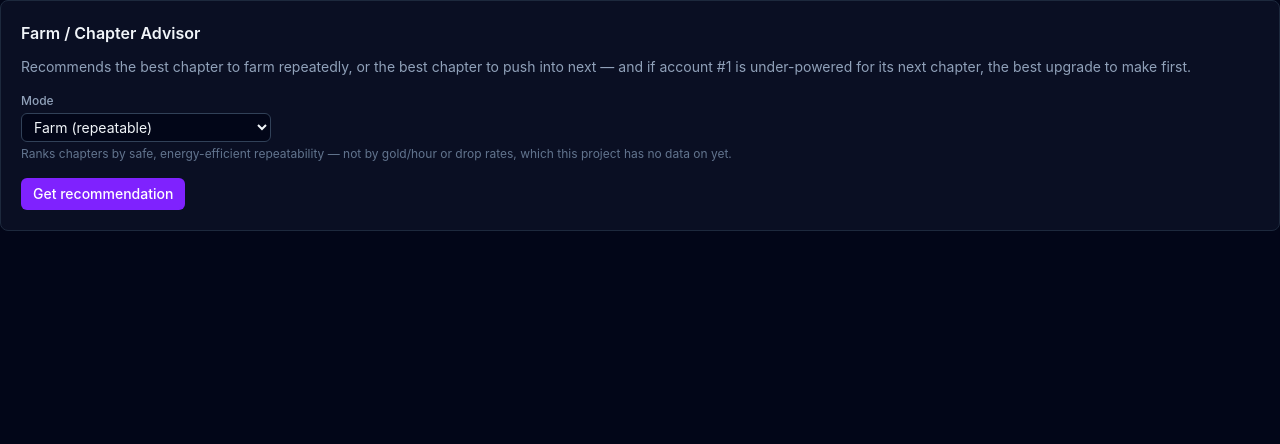
it: FarmAdvisorPage › clears a stale recommendation when the mode changes afterward
Click the button "Get recommendation" at (103, 194), box x1=21 y1=178 x2=185 y2=210
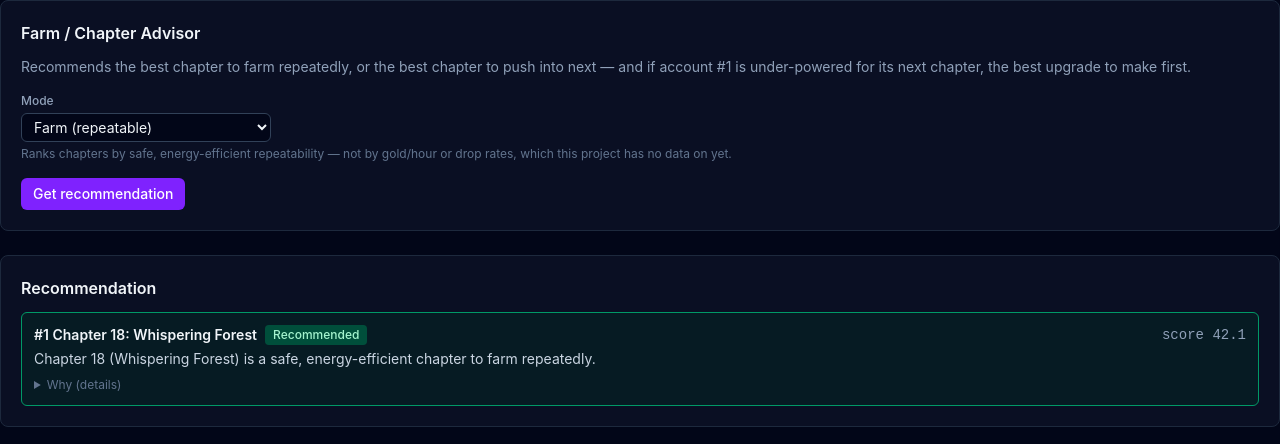
Check: the text "Chapter 18 (Whispering Forest) is a safe, energy-efficient chapter to farm repeatedly." is shown, box x1=34 y1=350 x2=596 y2=367
Select "Progression" in the dropdown labelled "Mode" at (146, 128), box x1=21 y1=113 x2=271 y2=142
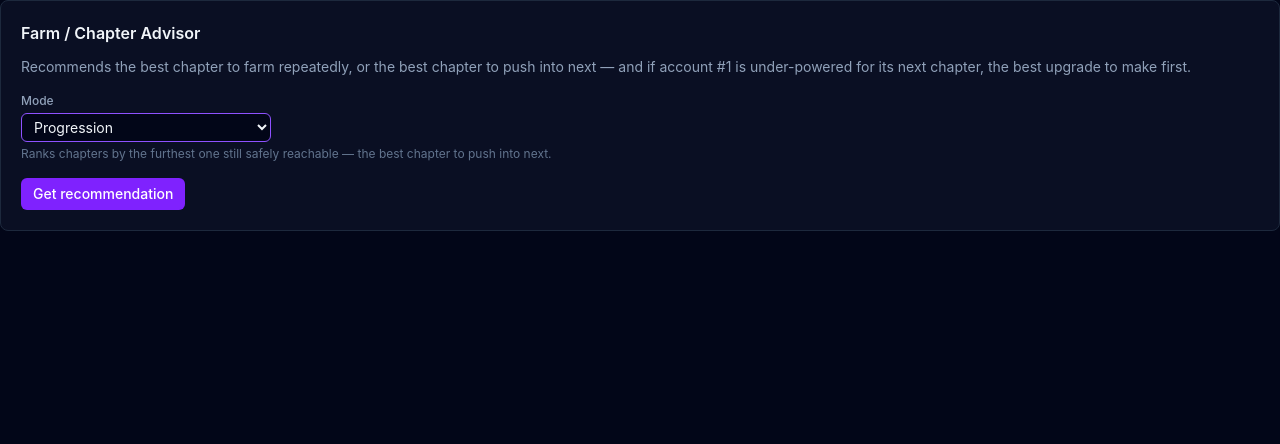
Check: the text "Chapter 18 (Whispering Forest) is a safe, energy-efficient chapter to farm repeatedly." is gone
